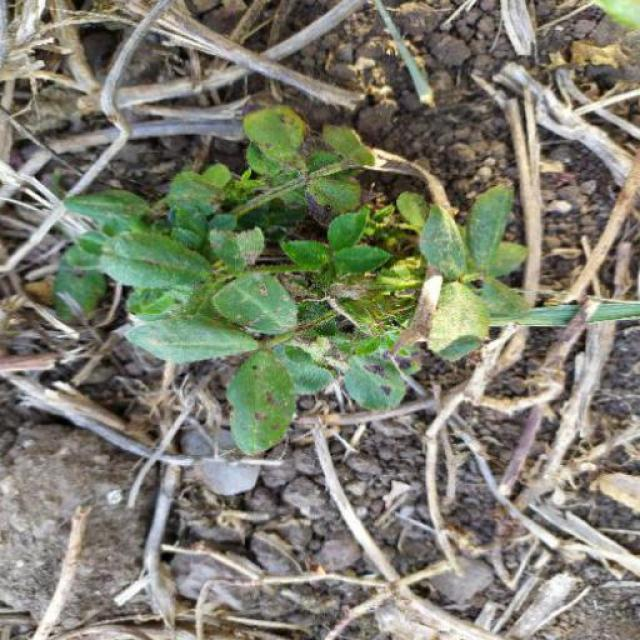weed: (49, 125, 540, 467)
